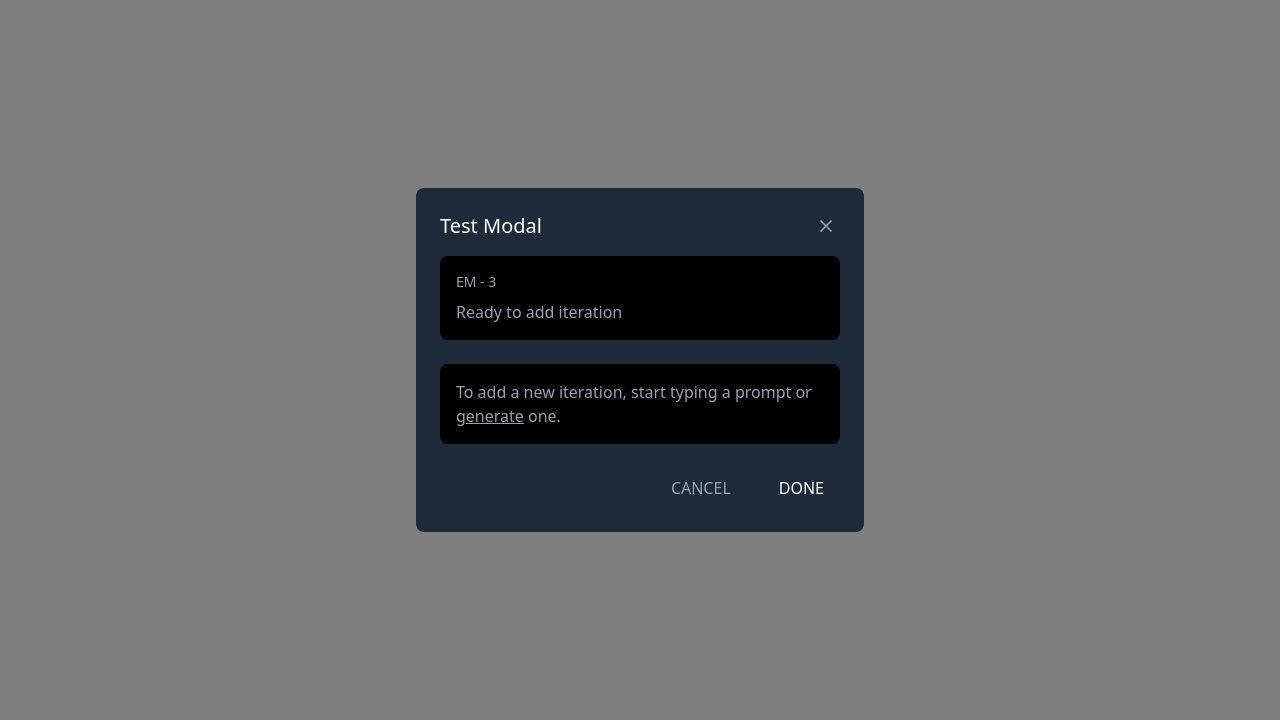
Test: AddIterationModal › Prompt Input State Management › shows prompt input when generate button is clicked
Click the button with test id "generate-link": (490, 416) [456,404,524,428]
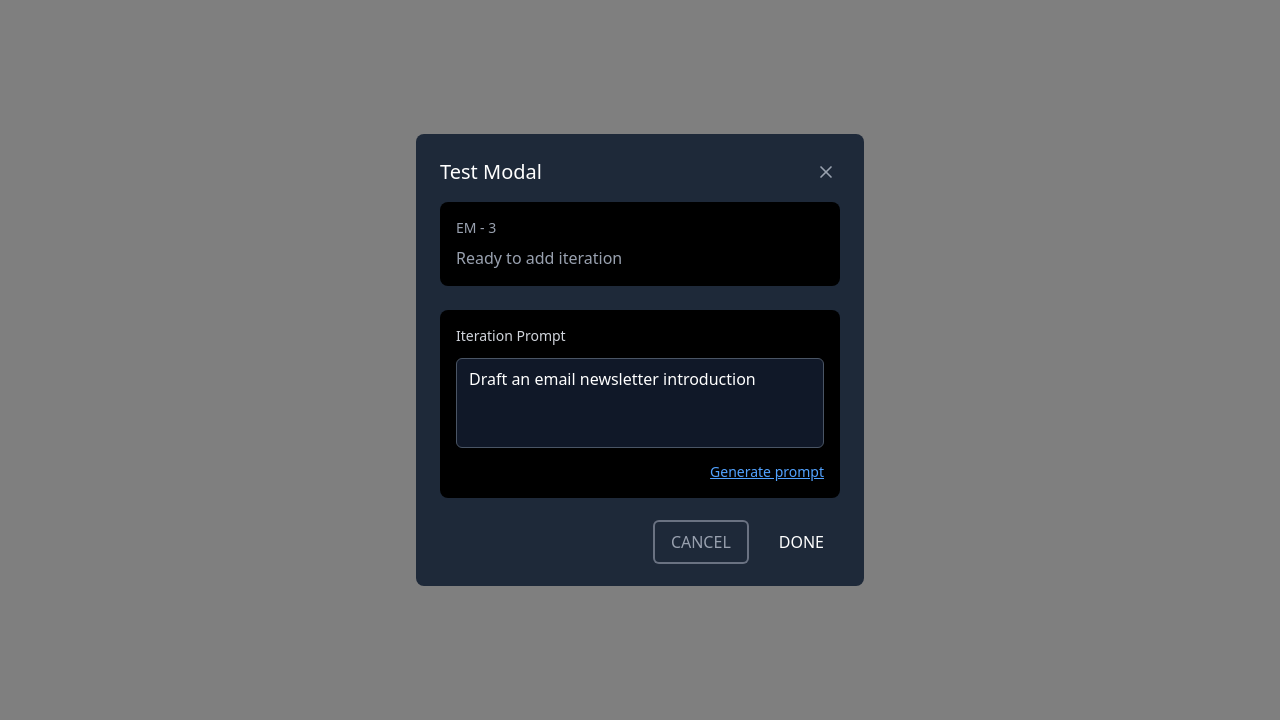
Now the text box labelled "Iteration Prompt" is shown, box [456,358,824,448]
Now the button with test id "generate-prompt" is shown, box [710,462,824,482]
